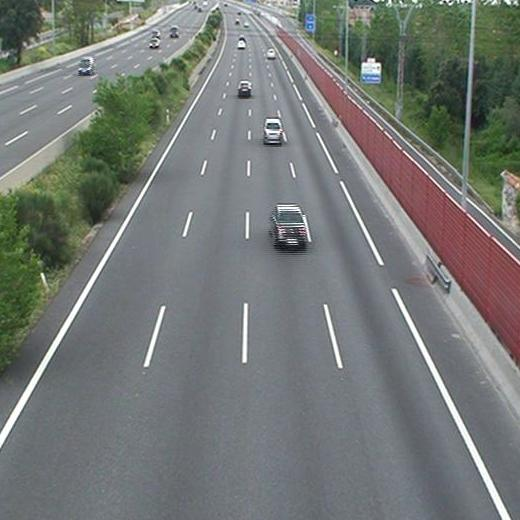car: (271, 206, 305, 247), (264, 119, 283, 142), (238, 81, 251, 95), (266, 49, 276, 59), (237, 41, 245, 48)
